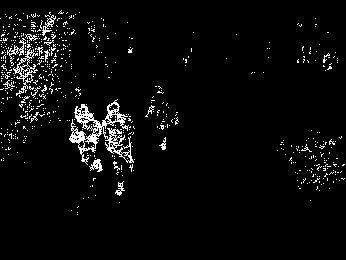person: (99, 100, 136, 196), (67, 102, 103, 176), (143, 84, 181, 152)
